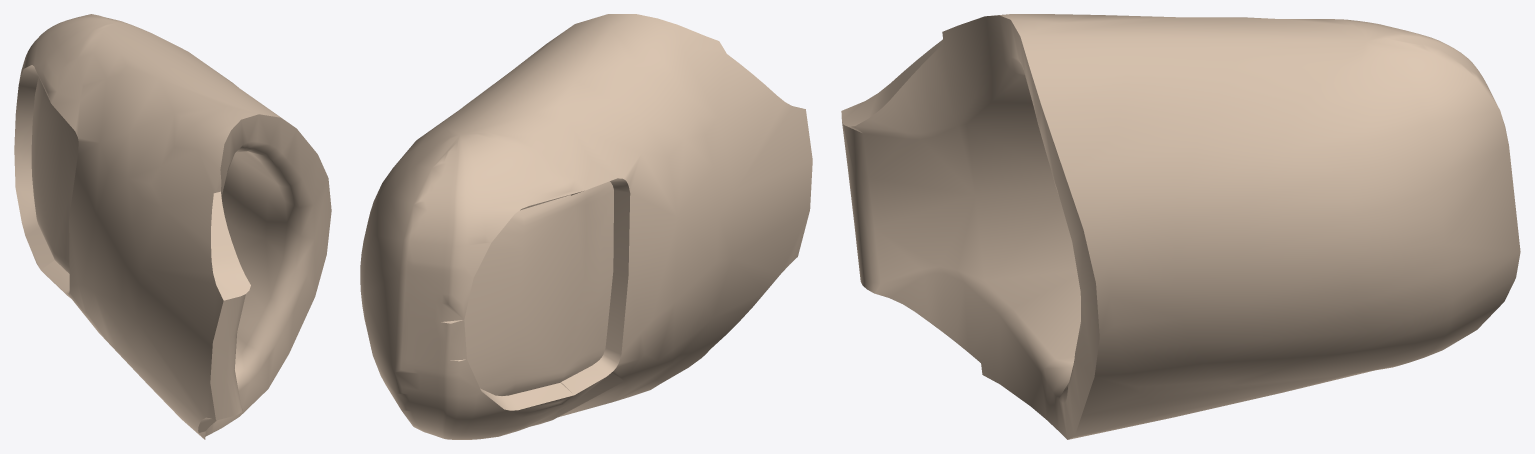
Rendered from r_hand_D_R_1.obj.
3 views of the same model, side by side, from view 1: azimuth 30°, elevation 25°; view 2: azimuth 150°, elevation 25°; view 3: azimuth 270°, elevation 25° (orthographic). The views are drawn at different scales.
Bounding box in the file's own units: 14.61 × 20.49 × 30.59.
